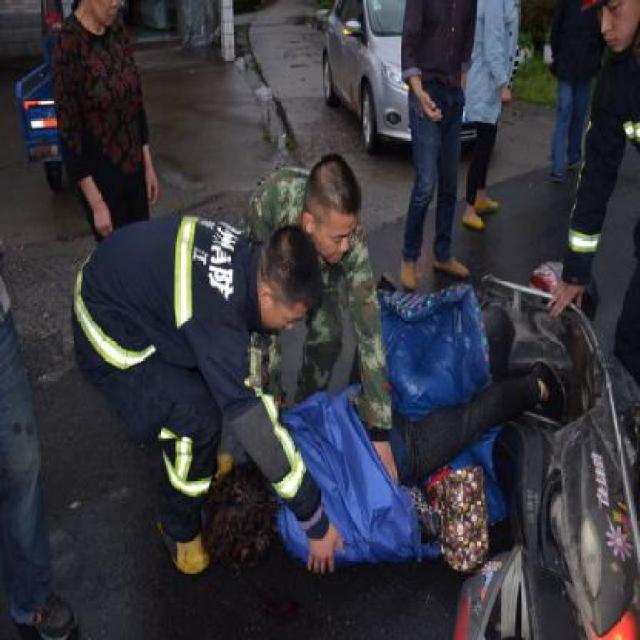fall: (210, 330, 565, 585)
